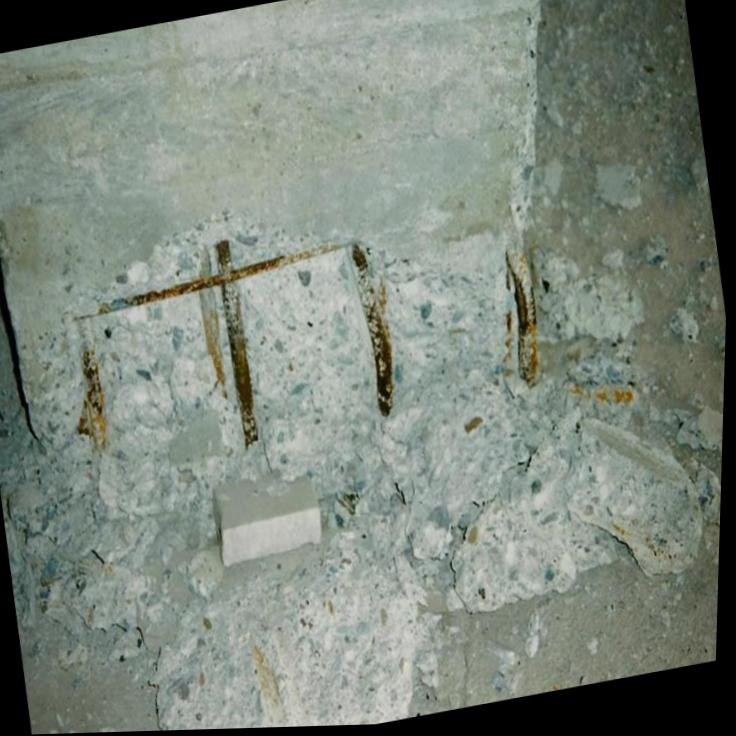damage: (6, 0, 726, 732)
